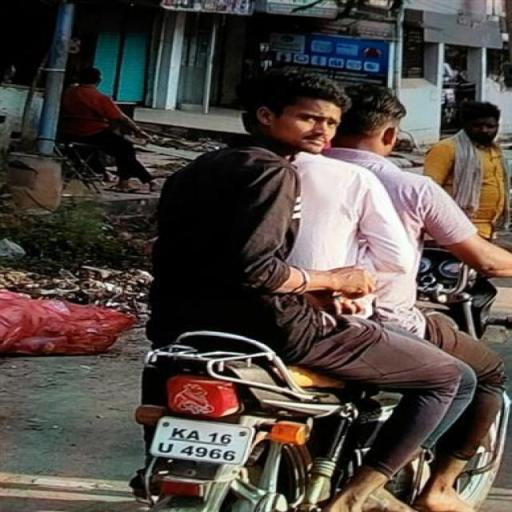tripple riding: (141, 67, 509, 366)
